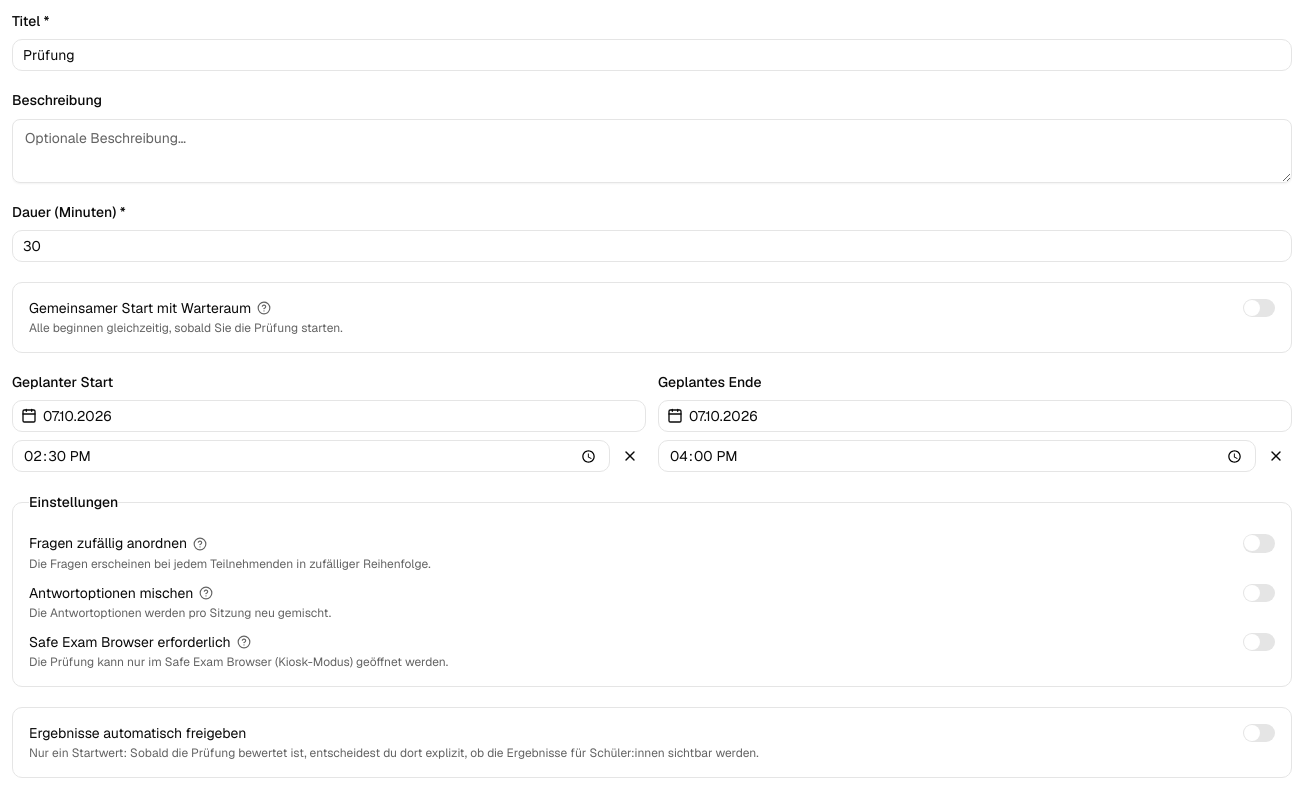
it: says why an end before the start is not saved
The width and height of the screenshot is (1304, 812).
Replace the text in the time field named "Uhrzeit" below "Geplantes Ende" with "13:00" at (957, 456), box [658,440,1256,472]
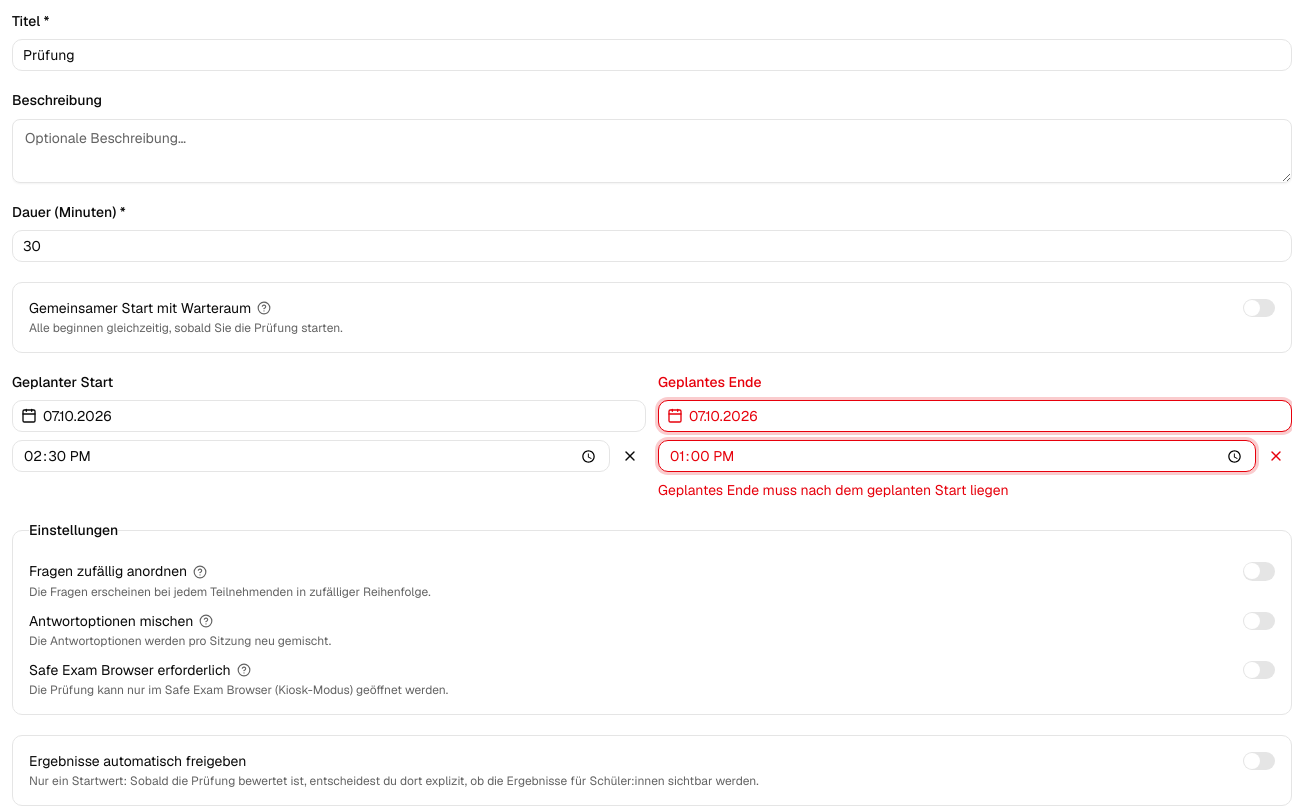
Now the text "Geplantes Ende muss nach dem geplanten Start liegen" is shown, box [658,481,1008,499]
